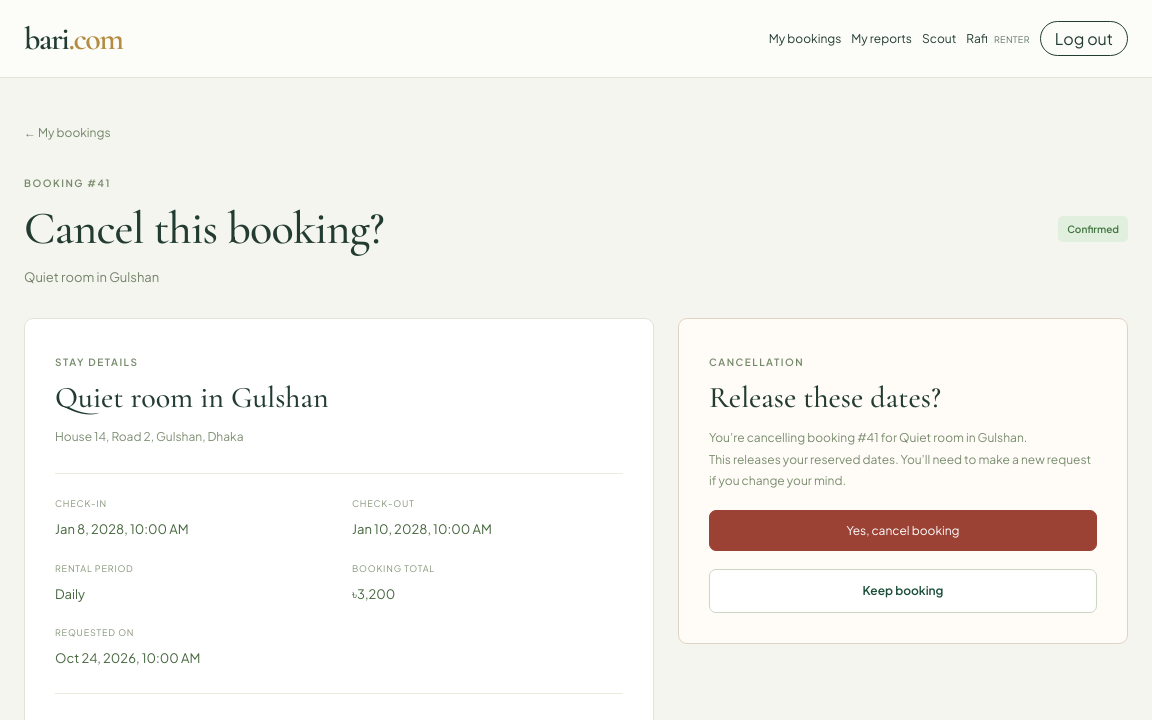
it: does not cancel when opening the confirmation screen or keeping the booking
Expected: the heading "Cancel this booking?" is shown, [24, 200, 384, 256]
Click the link "Keep booking".
click(903, 591)  # box [709, 569, 1097, 613]
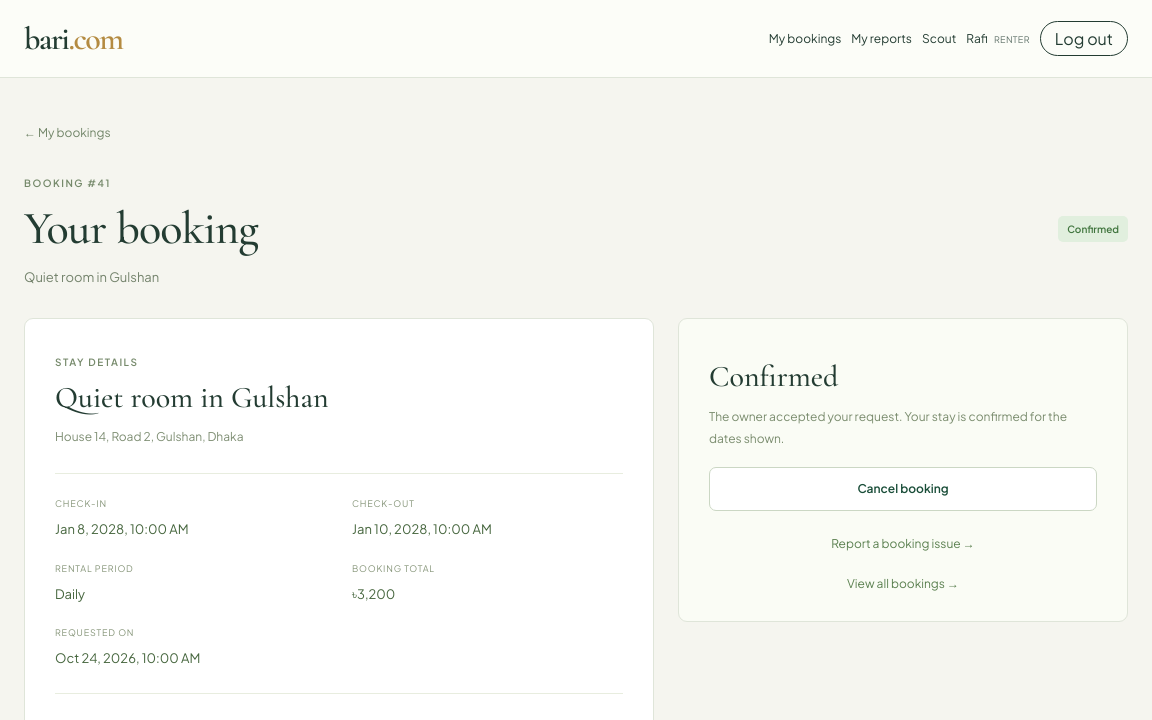
Now the heading "Your booking" is shown, box [24, 200, 258, 256]
